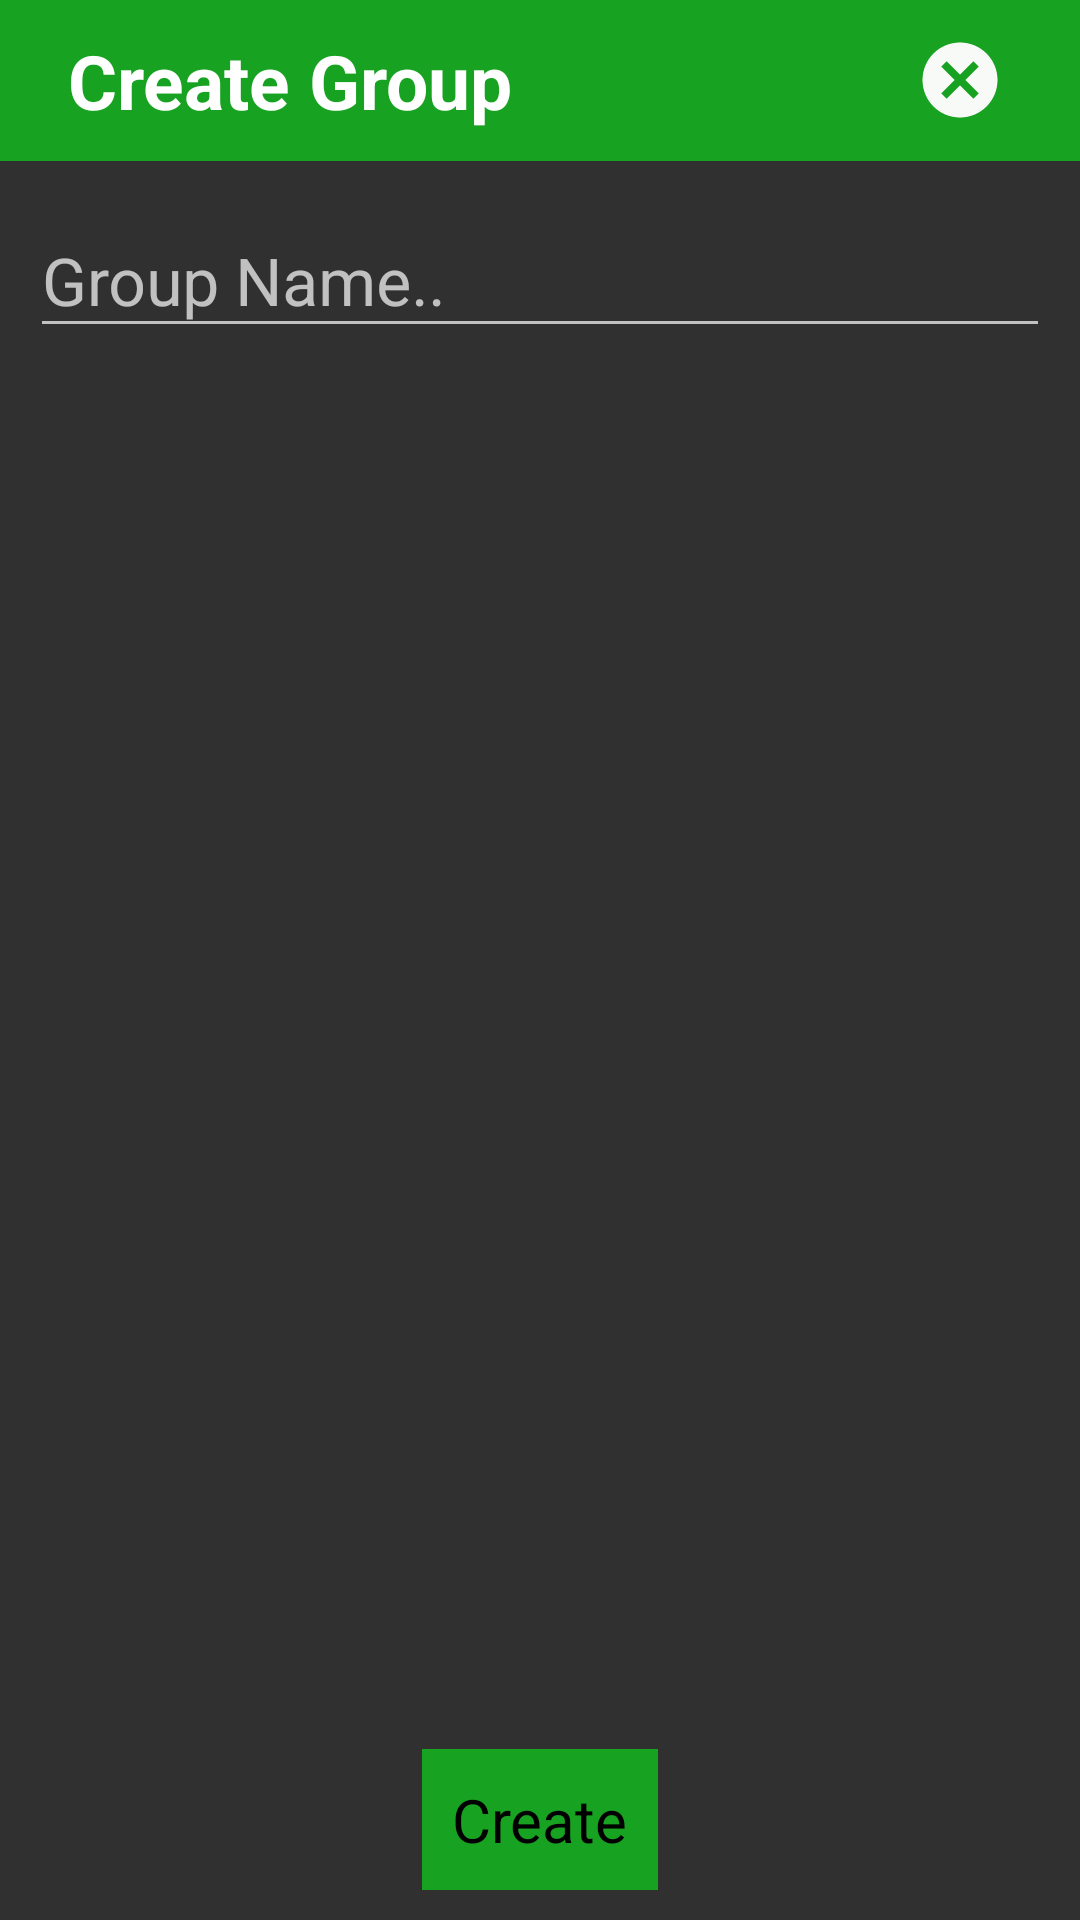

Screen size 1080×1920. Icon name, then its box in pixels as (x1, y1, x2, y2):
cancel: (922, 42, 998, 118)
